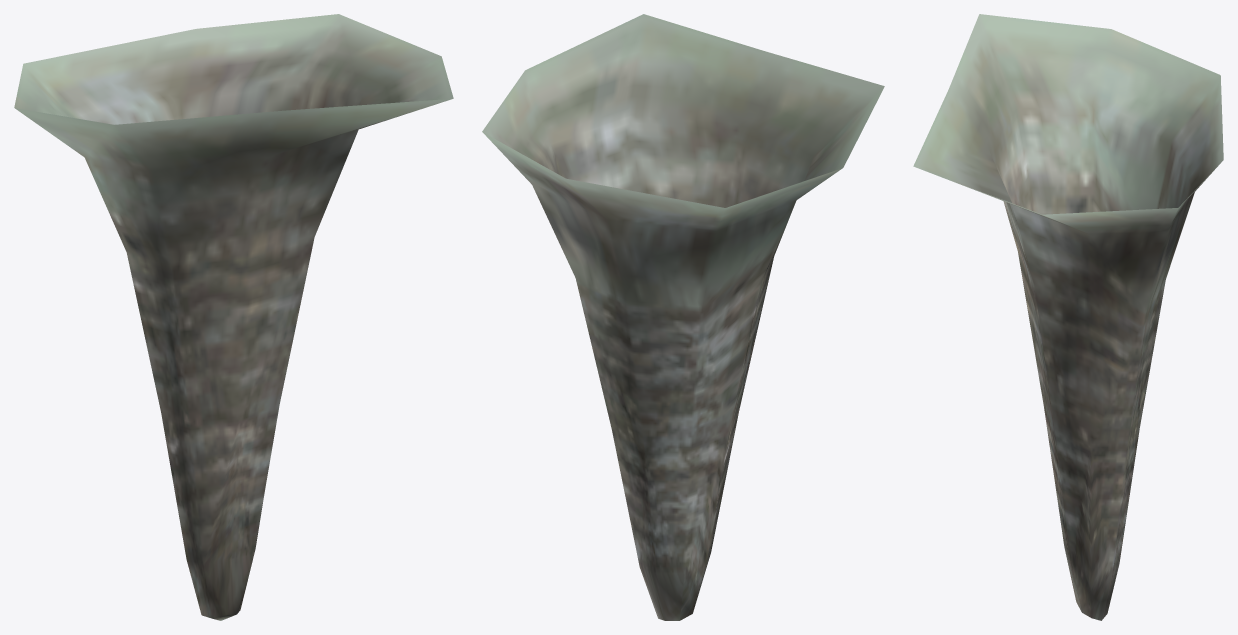
Rendered from TROLLHOLE02_PS-UPPERSTALAG13.fbx.
3 views of the same model, side by side, from view 1: azimuth 30°, elevation 25°; view 2: azimuth 150°, elevation 25°; view 3: azimuth 270°, elevation 25° (orthographic). The views are drawn at different scales.
Visible parts, largest first — view 1: TROLLHOLE02_PS-UPPERSTALAG13; view 2: TROLLHOLE02_PS-UPPERSTALAG13; view 3: TROLLHOLE02_PS-UPPERSTALAG13.
Boxes of the visible parts, box(x1,y1,x2,y2) form: TROLLHOLE02_PS-UPPERSTALAG13: box(14, 14, 453, 620); TROLLHOLE02_PS-UPPERSTALAG13: box(482, 14, 884, 620); TROLLHOLE02_PS-UPPERSTALAG13: box(913, 14, 1223, 620).
Size of the model in its own units: 14203 by 20323 by 10854.
Materials: 1 (1 with a texture image).
